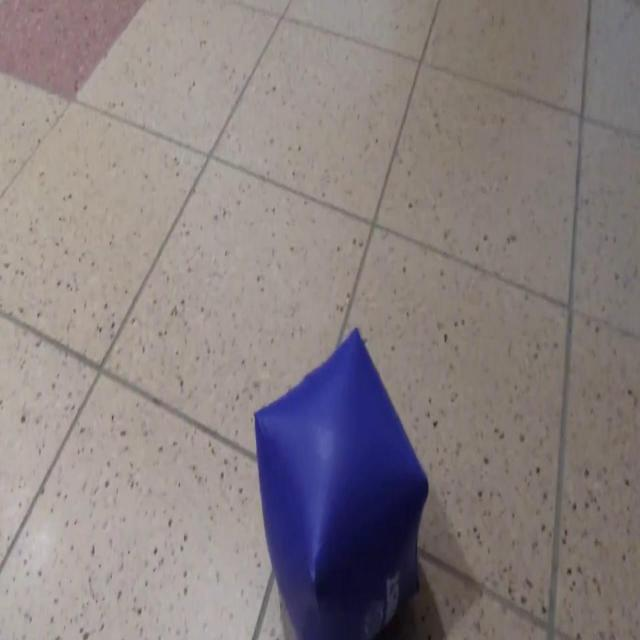frc_cube: (253, 326, 429, 640)
